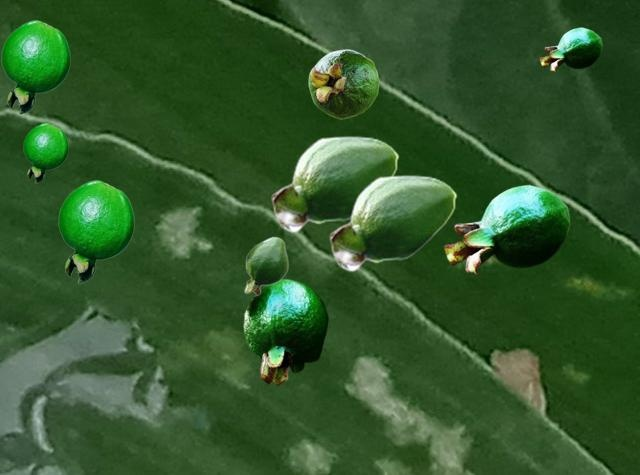guava: (271, 135, 398, 232), (329, 174, 456, 271), (443, 184, 569, 274), (243, 278, 328, 385), (58, 180, 133, 282), (1, 20, 69, 113), (308, 49, 378, 118), (539, 27, 601, 71), (23, 123, 67, 182), (244, 236, 287, 295)
